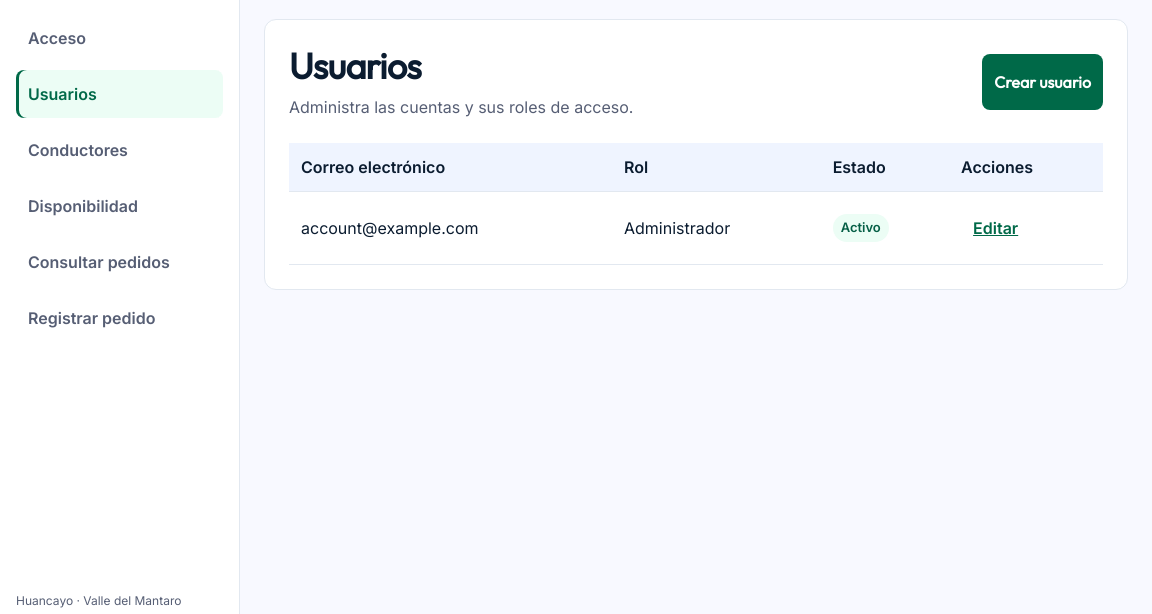
Scenario: US-003 interfaz › Administrador navega desde Usuarios a Registrar pedido mediante el menú común
Expected: the table is shown, 289,143 -> 1103,265
Expected: the link "Acceso" is shown, 28,28 -> 86,48
Click the link "Registrar pedido".
click(92, 318)  # box 28,308 -> 156,328
(page scrolled)
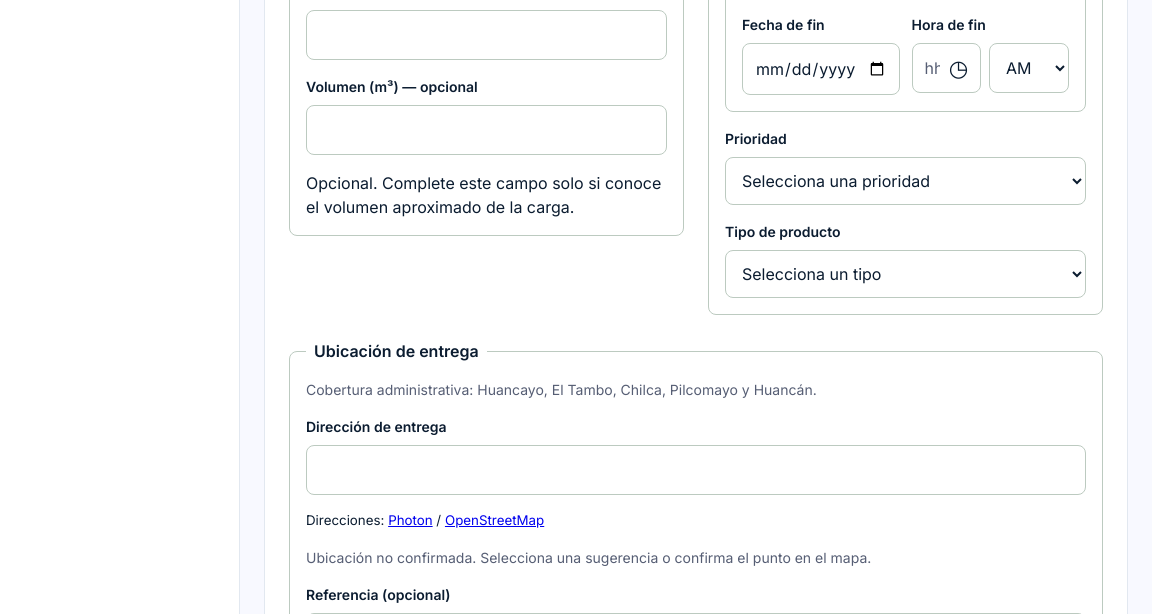
Now the dropdown labelled "Tipo de producto" is shown, box 725,250 -> 1086,298
